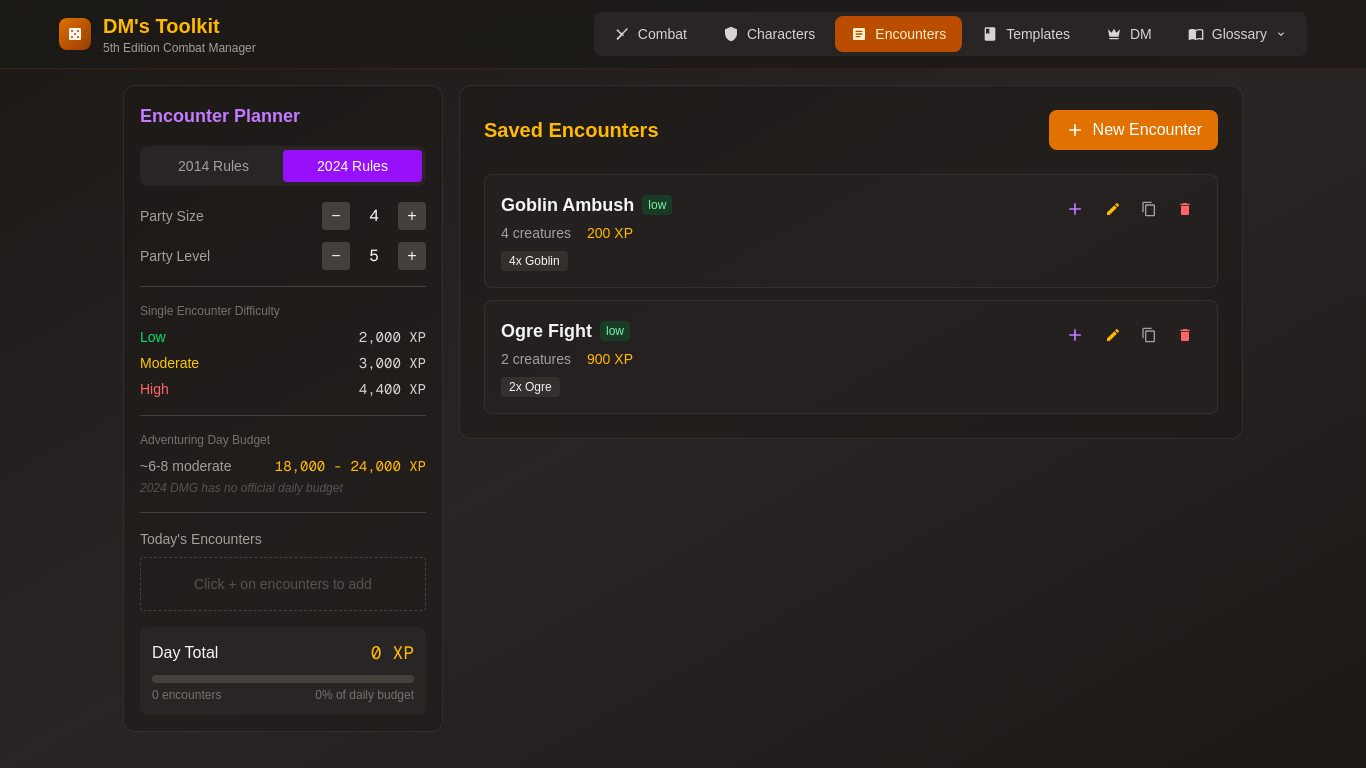
Scenario: EncountersPage › daily tracker integration › adds encounters to the planner and updates day total and percentage
Expected: the heading "Saved Encounters" is shown, [484,116,658,144]
Click the button titled "Add to daily tracker" in the row of "Goblin Ambush": (1075, 209) [1057,191,1093,227]
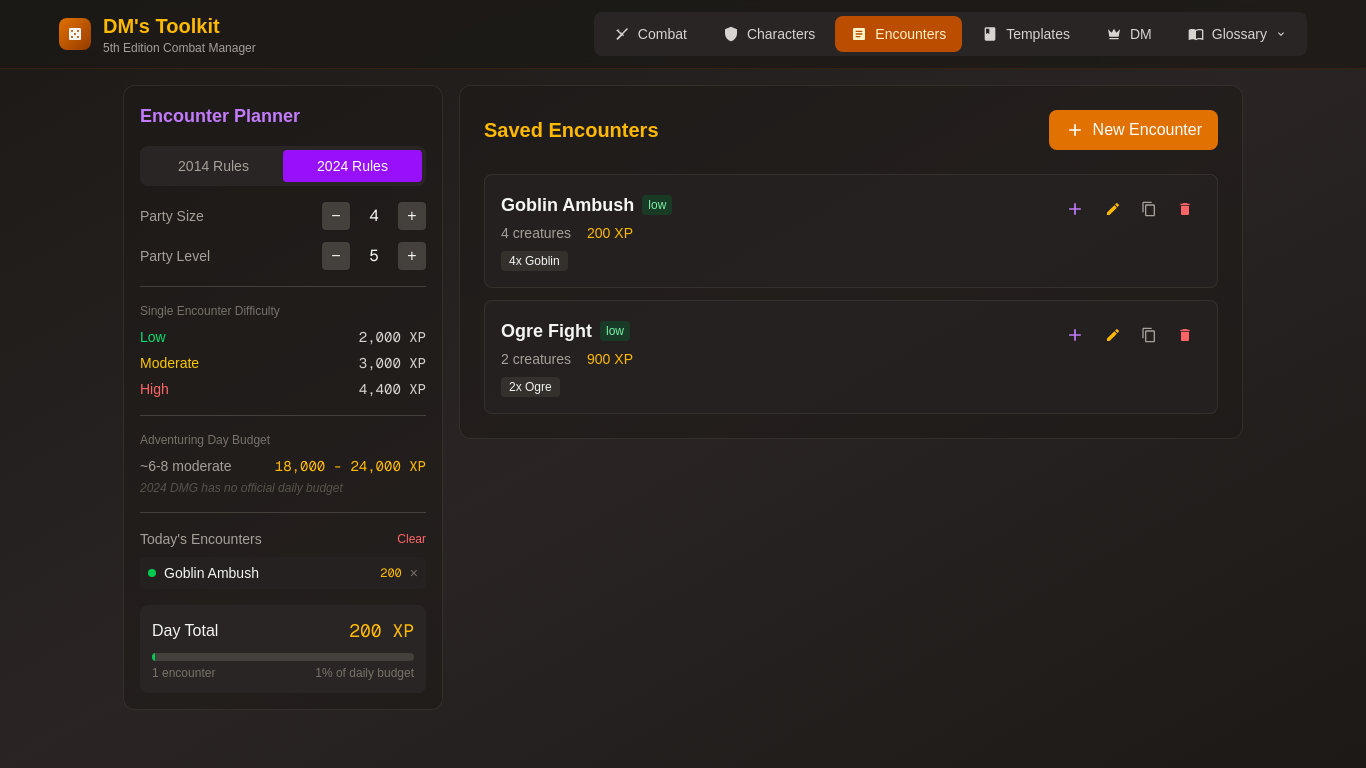
Click the button titled "Add to daily tracker" in the row of "Ogre Fight": (1075, 335) [1057,317,1093,353]
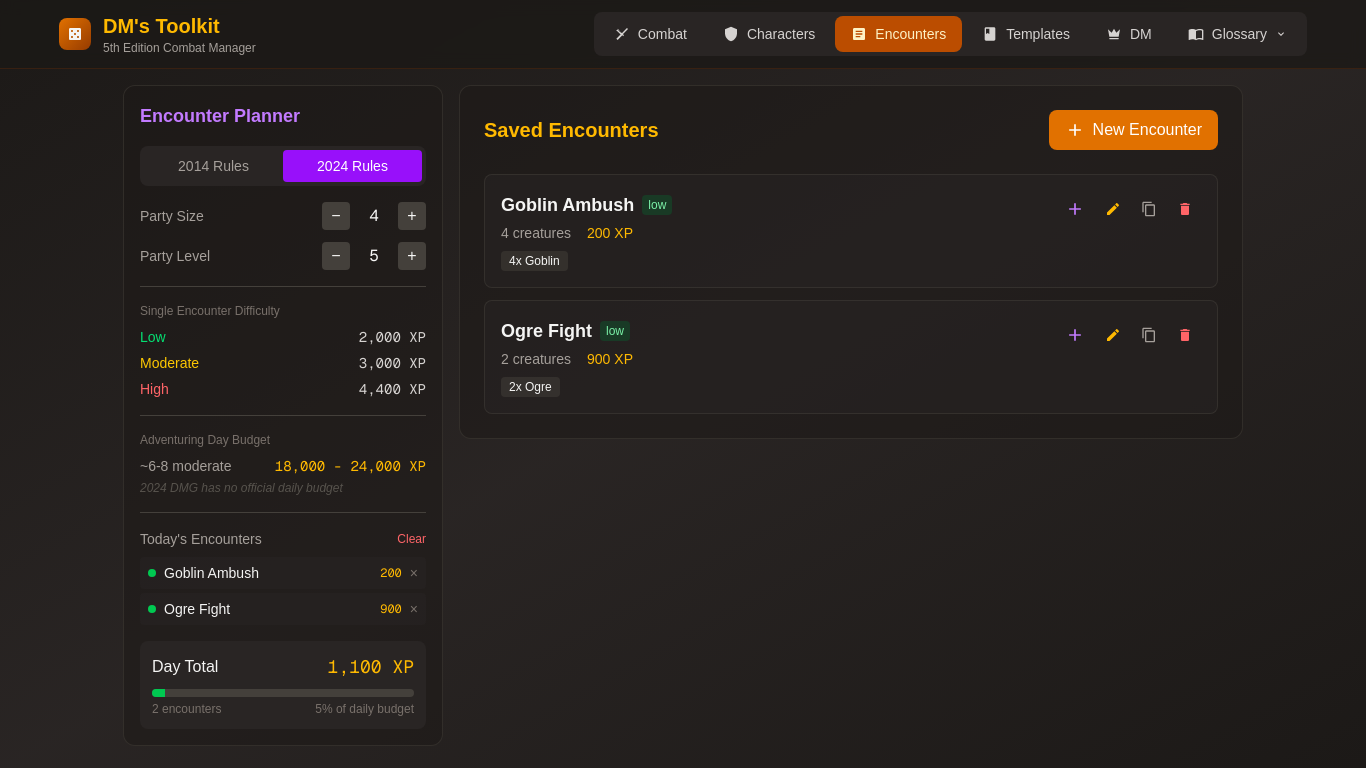
Expected: the text "2 encounters" is shown, [152,701,221,717]
Expected: the text "5% of daily budget" is shown, [315,701,414,717]
